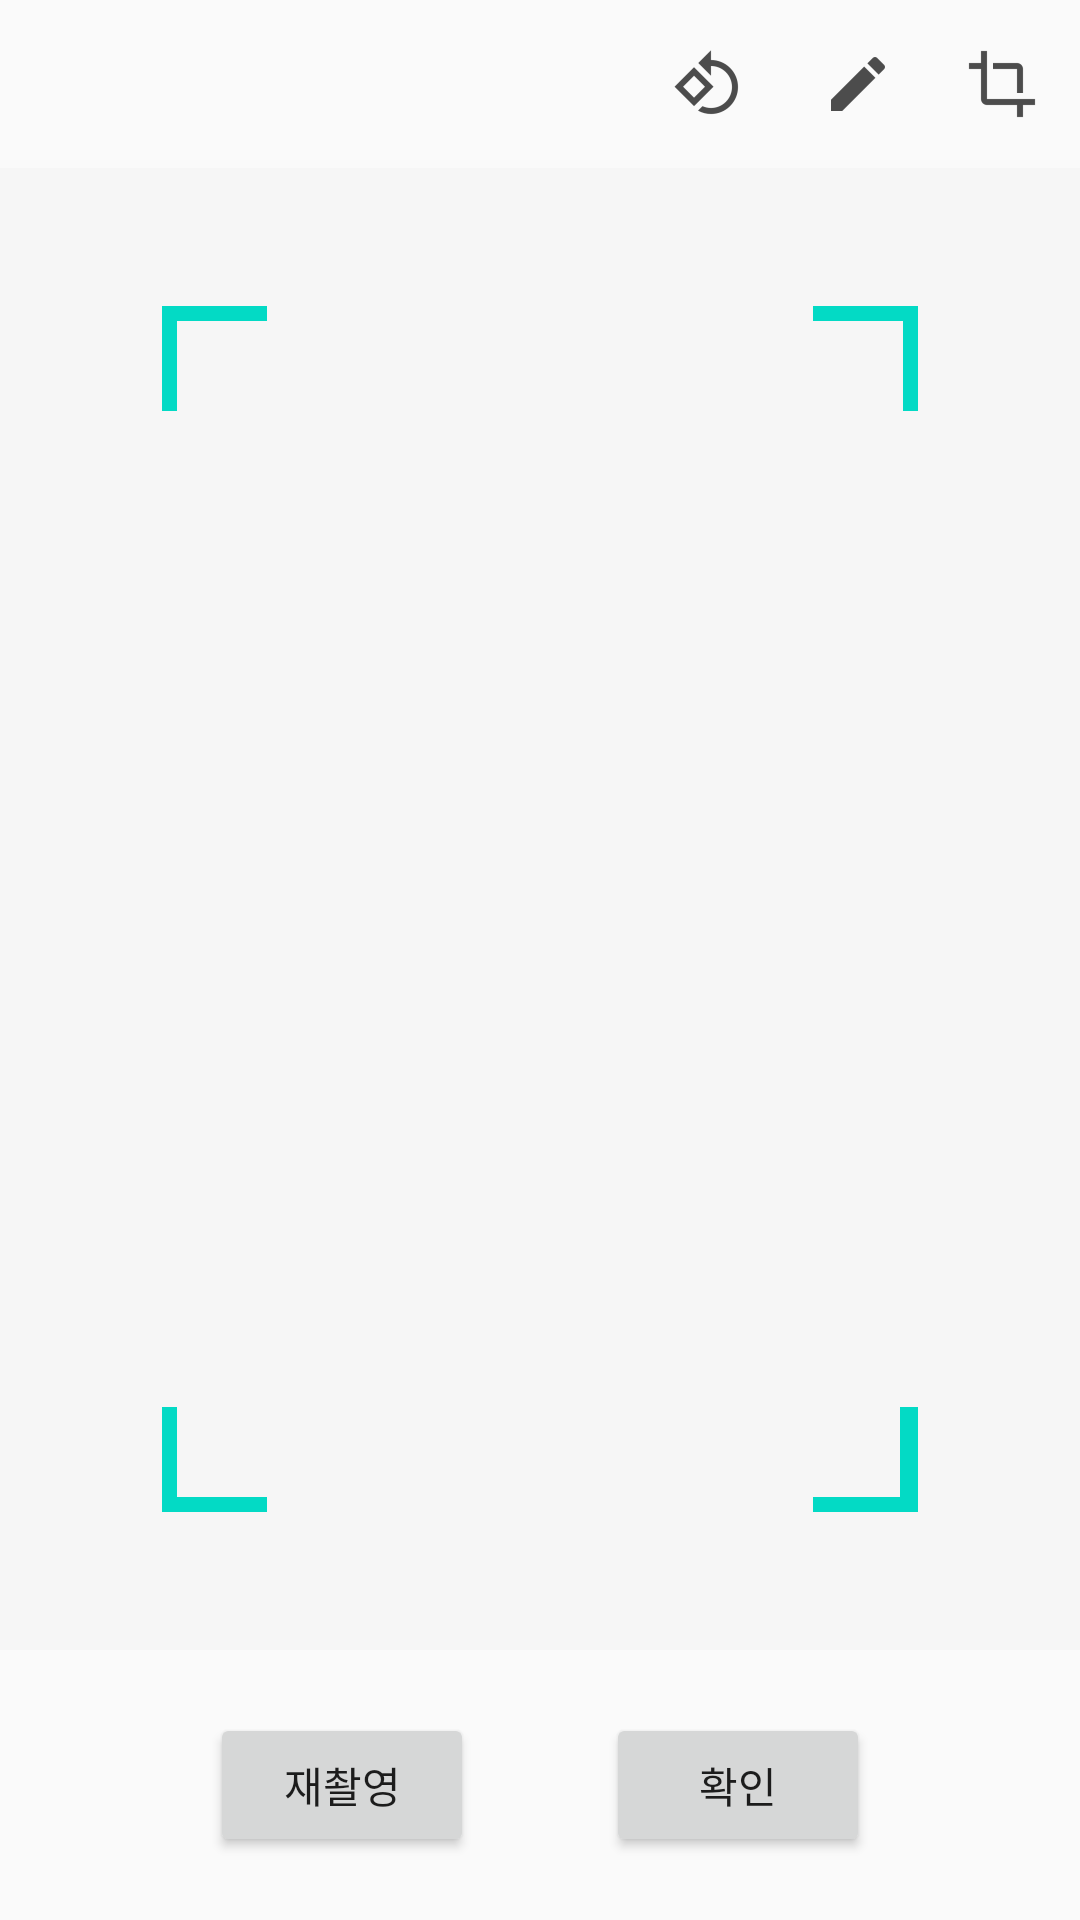

Named icons in this screenshot (1080px x 1920px) and their bounding boxes, box=[x1, y1, x2, y2]:
crop: box=[969, 51, 1035, 117]
retouch: box=[831, 57, 885, 111]
rotate: box=[674, 50, 738, 114]
